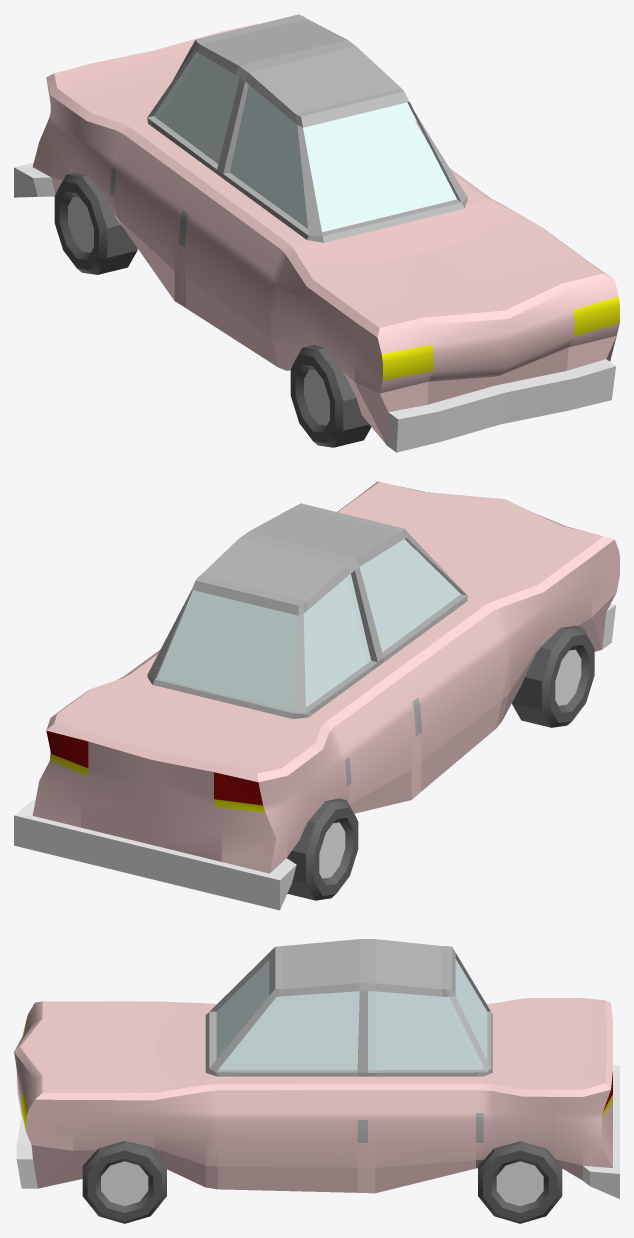
Rendered from CarAsset.fbx.
3 renders of one model, top to bottom at view 1: azimuth 30°, elevation 25°; view 2: azimuth 150°, elevation 25°; view 3: azimuth 270°, elevation 25°, orthographic. The views are drawn at different scales.
Visible parts, largest first — view 1: Car, tire1, tire2; view 2: Car, tire2, tire1; view 3: Car, tire3, tire4.
Part boxes in pixels (left/top/right/bottom): Car: left=14, top=14, right=619, bottom=452; tire1: left=54, top=173, right=137, bottom=274; tire2: left=290, top=344, right=371, bottom=447; Car: left=14, top=481, right=619, bottom=910; tire2: left=512, top=625, right=594, bottom=727; tire1: left=287, top=798, right=358, bottom=900; Car: left=14, top=939, right=619, bottom=1198; tire3: left=82, top=1141, right=166, bottom=1223; tire4: left=478, top=1141, right=562, bottom=1223.
Size of the model in its own units: 4.14 by 3.76 by 9.75.
